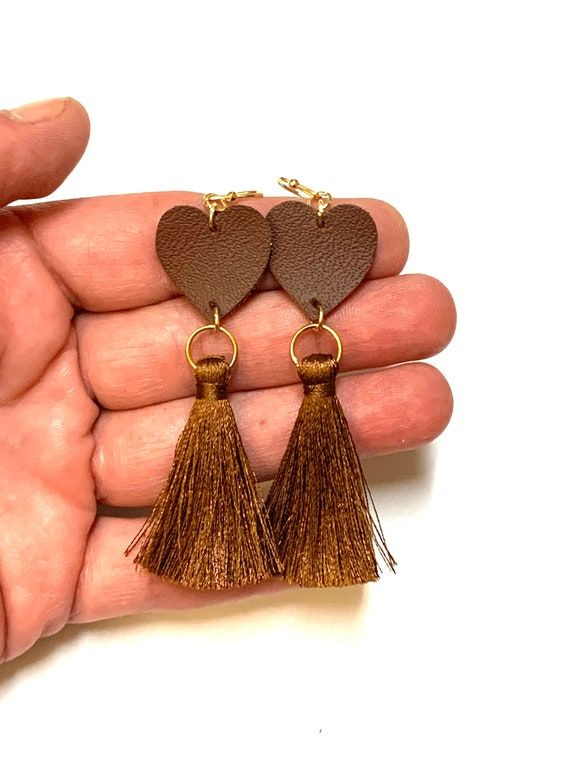cuero: (156, 201, 379, 324)
